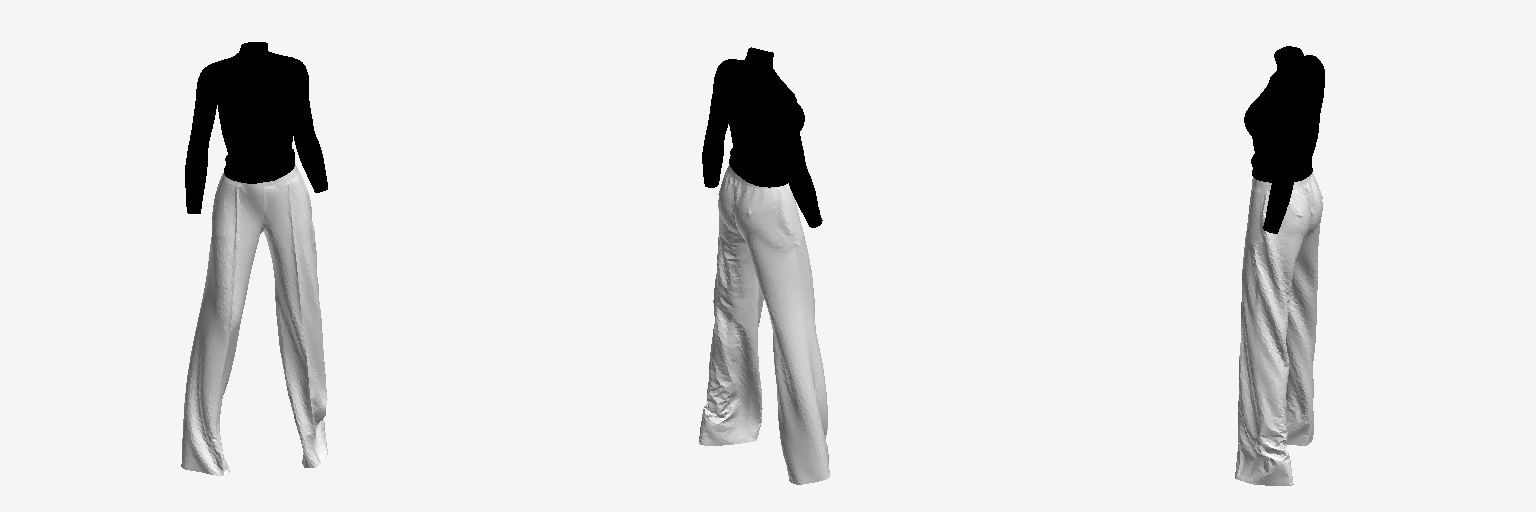
File: DA_HighNeck+WidePants_0000070.obj
3 views of the same model, side by side, from view 1: azimuth 30°, elevation 25°; view 2: azimuth 150°, elevation 25°; view 3: azimuth 270°, elevation 25° (orthographic).
Bounding box in the file's own units: 0.5589 × 1.64 × 0.3252.